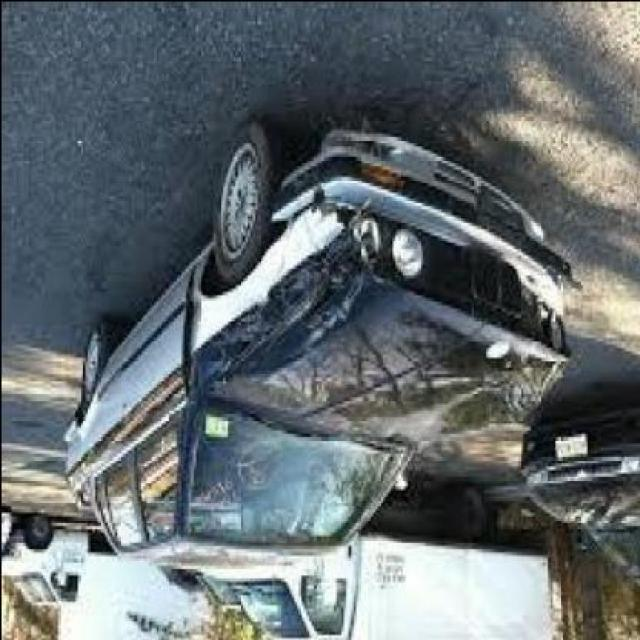damage: (184, 175, 376, 388)
